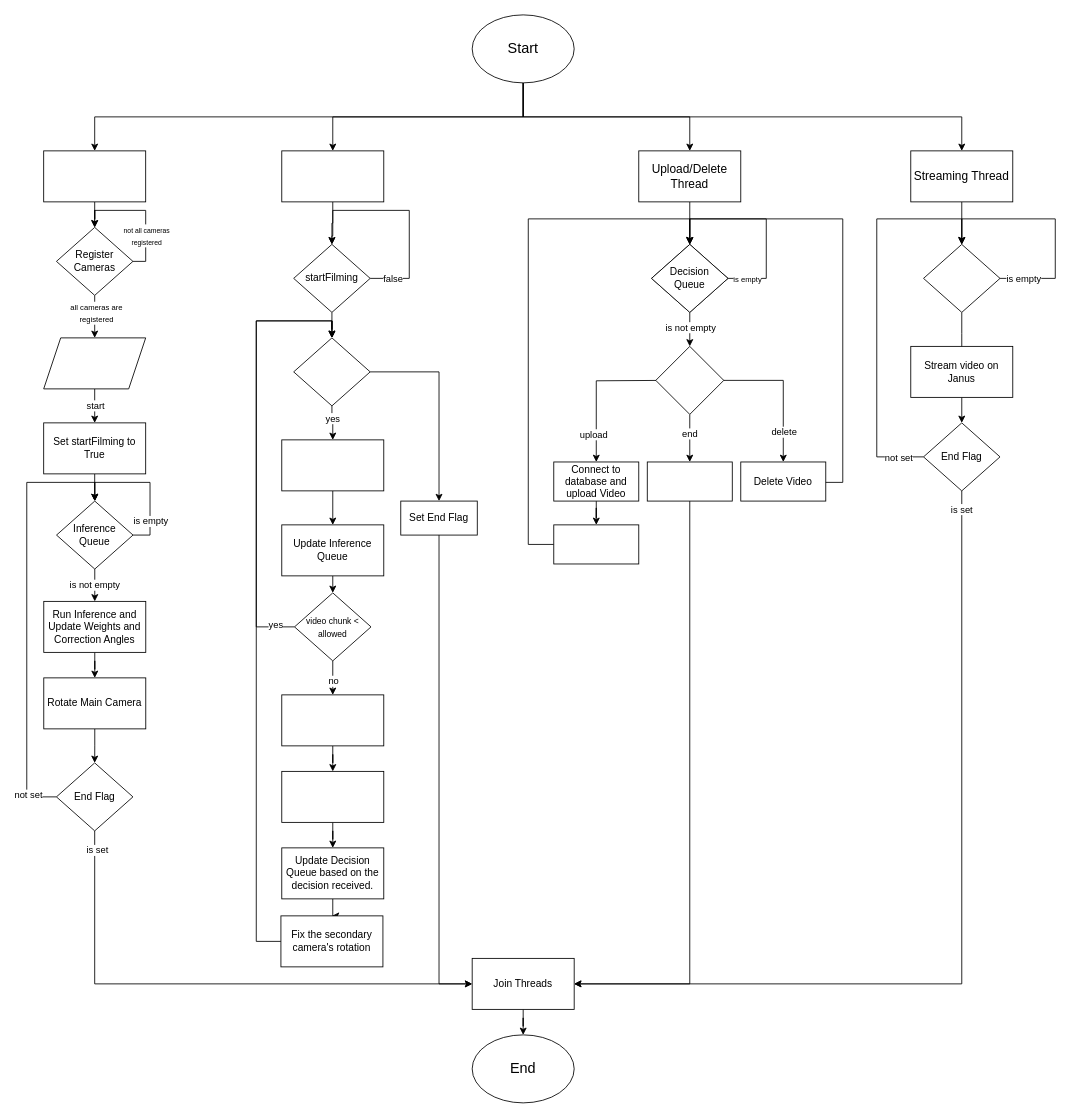
The diagram is 1077 pixels wide and 1118 high, and some of its shapes have lost their labels. Here are the shapes that lost their labels. From the top down, the centre of each, then its label:
the point at 94,176: Main Thread (Inference)
the point at 332,176: Filming Thread
the point at 961,278: Streaming Queue
the point at 94,363: User Input
the point at 331,371: Time < total
the point at 689,380: Get decision
the point at 332,465: Capture Frames
the point at 689,481: End thread
the point at 596,544: Update Streaming Queue
the point at 332,720: Send cumulative weight and corrections to server.
the point at 332,796: Reset Weights and Correction angle variables
